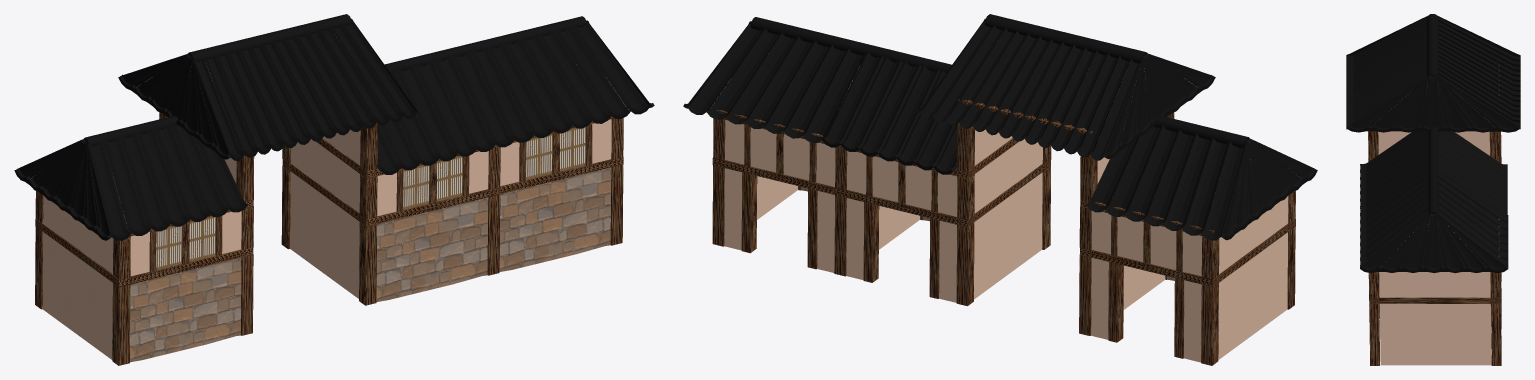
The model's file is DoorWall.FBX.
3 views of the same model, side by side, from view 1: azimuth 30°, elevation 25°; view 2: azimuth 150°, elevation 25°; view 3: azimuth 270°, elevation 25° (orthographic). The views are drawn at different scales.
Visible parts, largest first — view 1: Object005; view 2: Object005; view 3: Object005.
Part boxes in pixels (bbox=[...]): Object005: bbox=[14, 14, 654, 365]; Object005: bbox=[683, 14, 1317, 365]; Object005: bbox=[1346, 14, 1520, 365].
Bounding box in the file's own units: 343 × 154 × 121.
